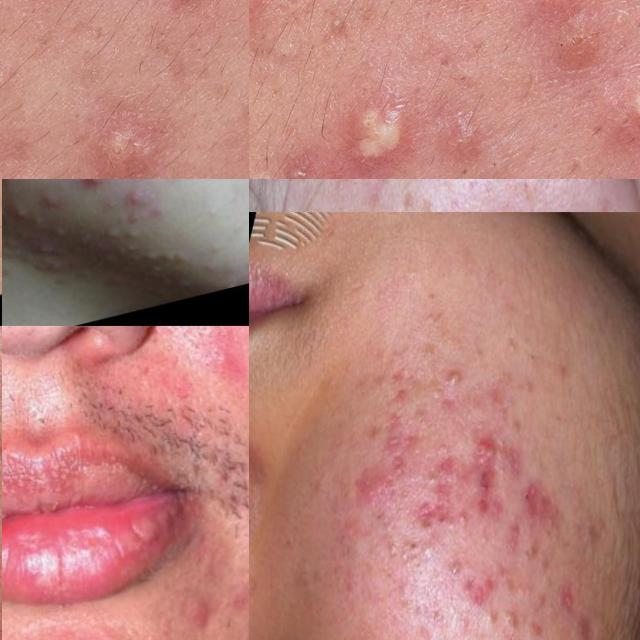acne_scars: (415, 440, 509, 520), (459, 565, 505, 623), (347, 460, 393, 513)
comedone: (125, 230, 190, 282), (378, 522, 429, 580), (436, 498, 477, 545), (433, 540, 472, 589), (110, 239, 144, 277), (102, 214, 142, 245), (505, 574, 539, 610), (516, 538, 540, 572), (424, 381, 449, 412), (51, 220, 74, 242), (2, 242, 22, 266), (206, 236, 223, 262), (10, 204, 29, 225)
cystic: (1, 179, 21, 200)
papule: (195, 327, 249, 398), (170, 593, 222, 640), (50, 628, 110, 640)
pustule: (84, 116, 140, 172), (598, 75, 640, 141), (439, 350, 477, 406), (83, 179, 106, 190)
sebo-crystan-conglo: (340, 71, 416, 179), (510, 470, 554, 536), (466, 424, 509, 478), (469, 139, 523, 179), (558, 598, 607, 640), (492, 594, 524, 634), (121, 179, 160, 210), (409, 623, 447, 640)
